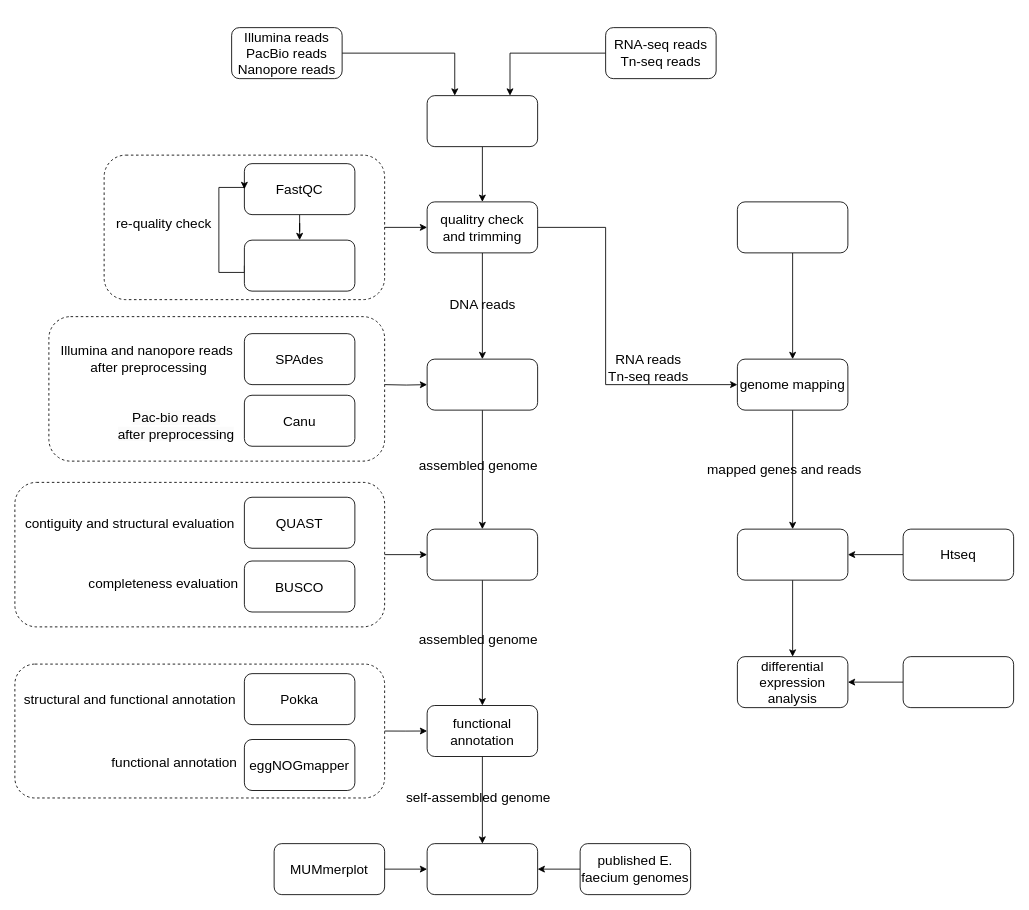
Image size: 1029x910. Some labels were removed from this diagram. Each missing label, with the centre of its shape:
assembly evaluation: (482,554)
DESeq2: (958,682)
genes read count analysis: (792,554)
genome assembly: (482,384)
genome comparison: (482,869)
raw data: (482,121)
reference genome ENAPRJEB19025: (792,227)
Trimmomatic: (299,265)
